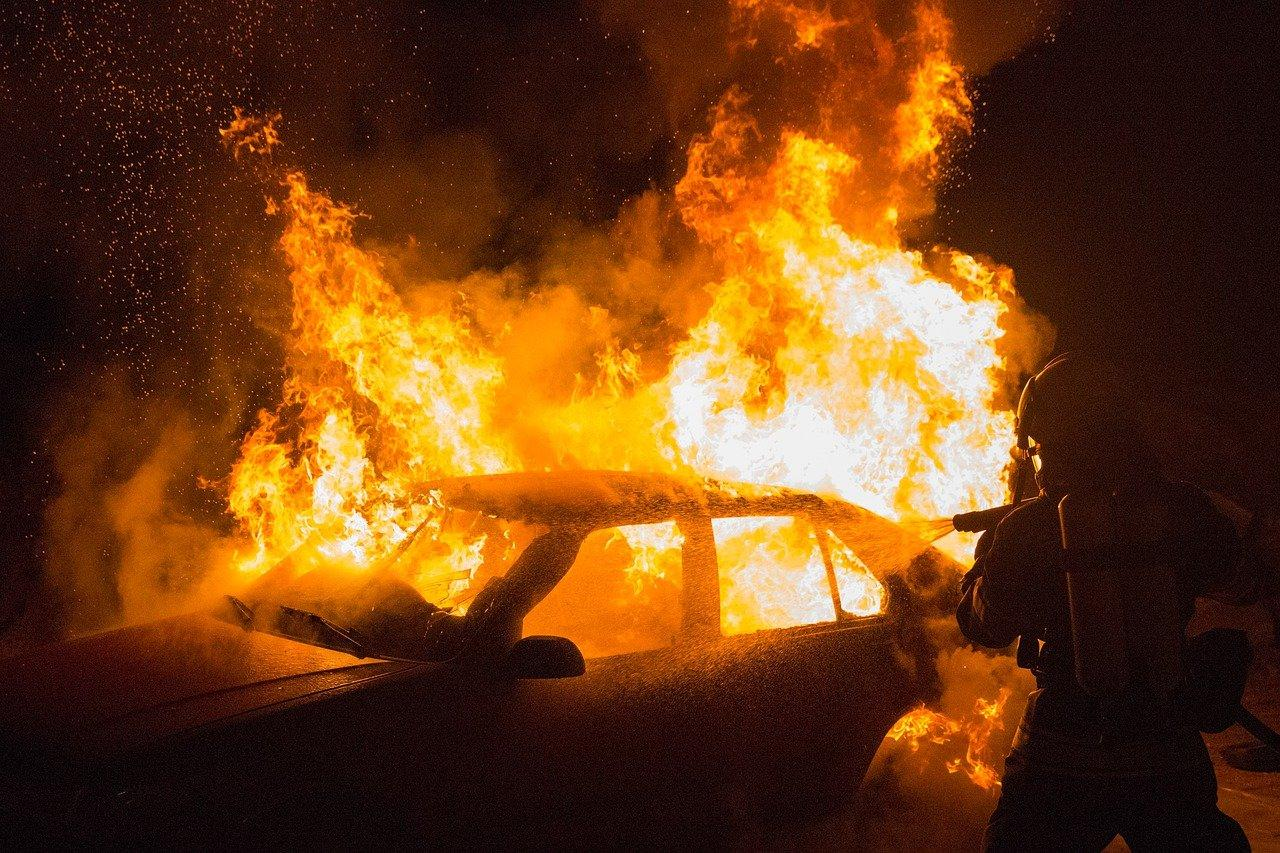fire: (164, 126, 1084, 730)
